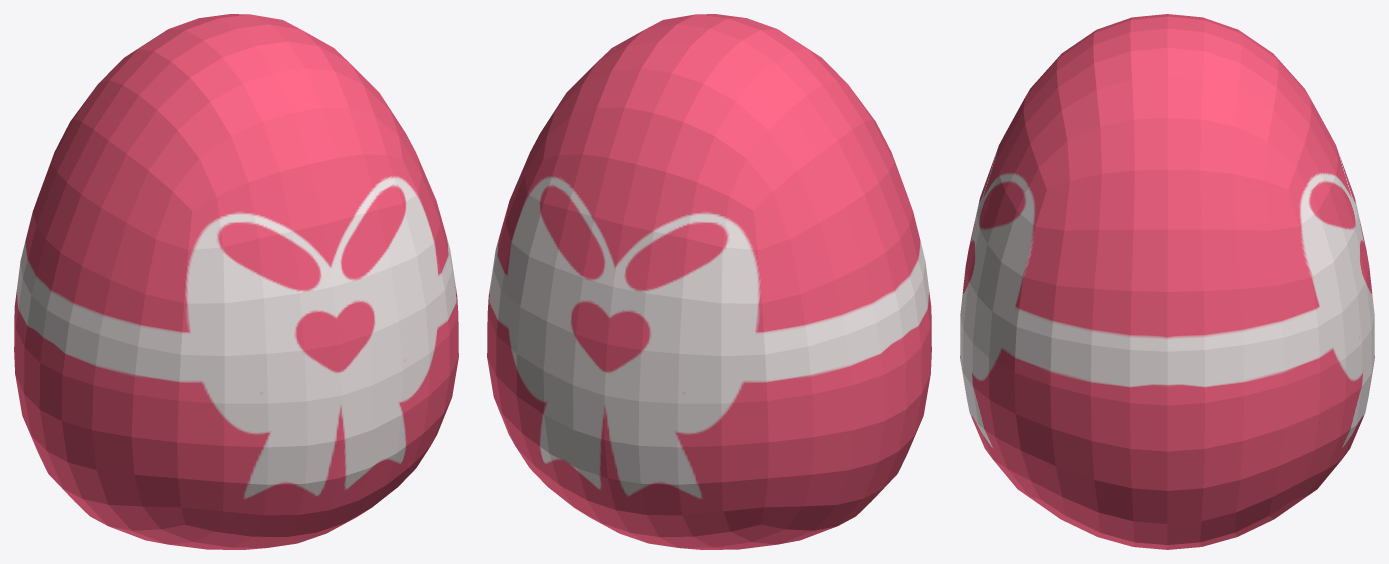
The model's file is Egg_Pink_Bow.fbx.
3 views of the same model, side by side, from view 1: azimuth 30°, elevation 25°; view 2: azimuth 150°, elevation 25°; view 3: azimuth 270°, elevation 25° (orthographic).
Parts seen in each view (by area): view 1: Egg; view 2: Egg; view 3: Egg.
Part boxes in pixels (x1,y1,x2,y2): Egg: (14, 14, 458, 549); Egg: (487, 14, 931, 549); Egg: (960, 14, 1374, 549).
Size of the model in its own units: 210 by 256 by 195.
1 material, 1 textured.
